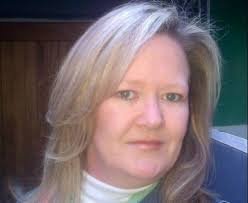white_female: (84, 50, 191, 156)
